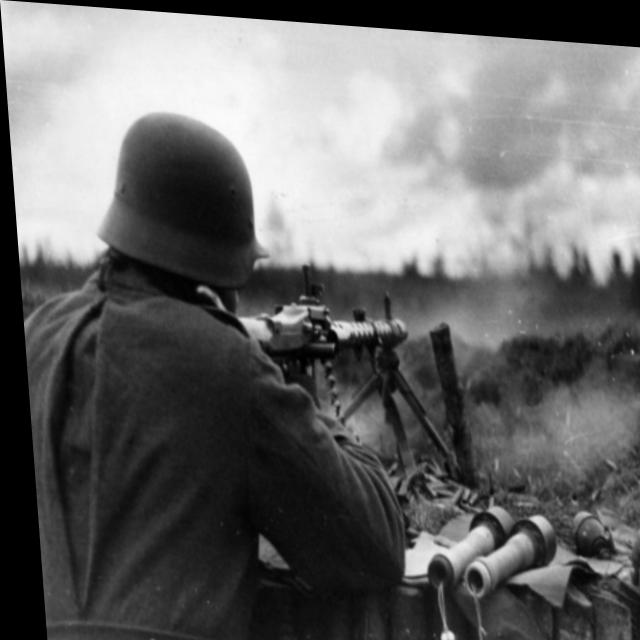other: (9, 100, 311, 638)
